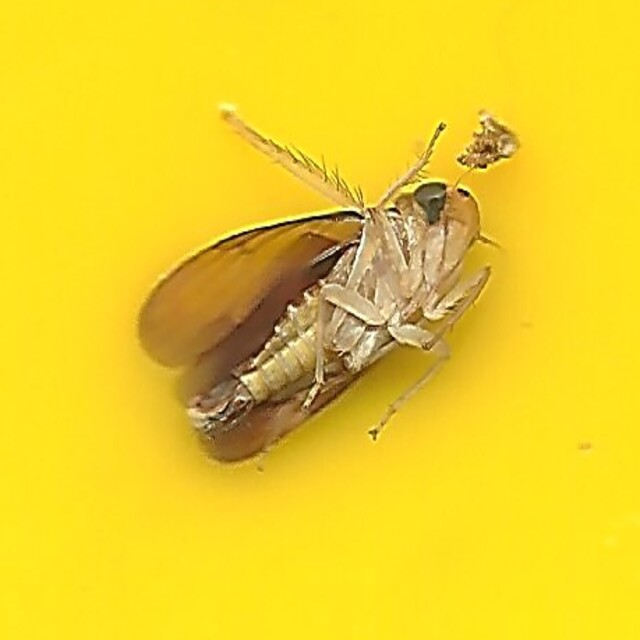Hemiptera: (139, 170, 501, 470)
